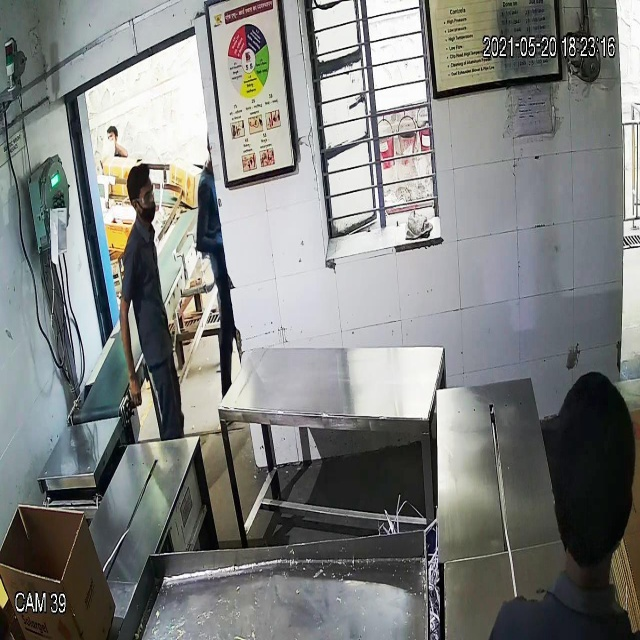Gafas: (128, 187, 160, 212)
